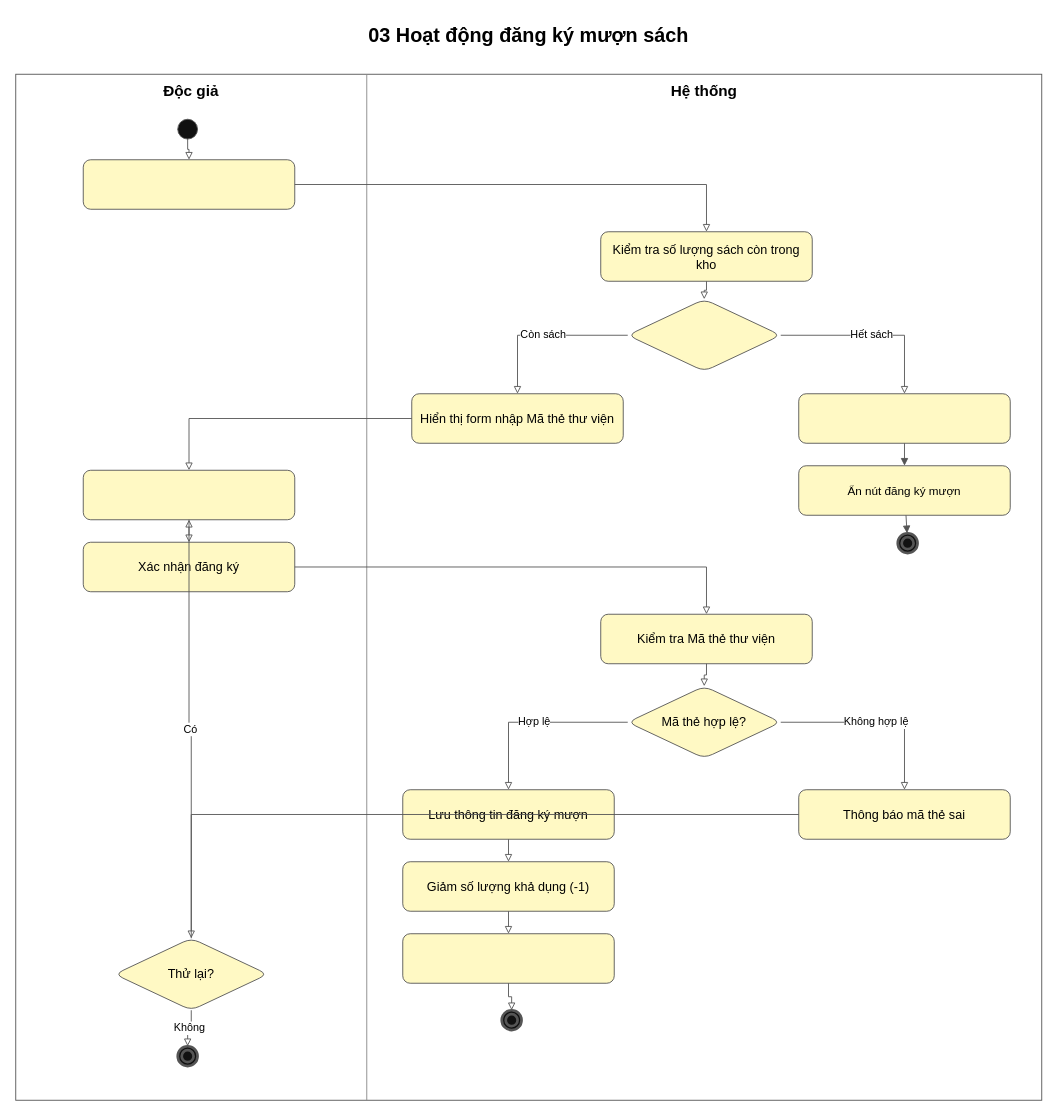
This 1058x1117 diagram has some shape labels left out. The centre of each missing label's shape, as x and y in pixels:
Chọn Đăng ký mượn tại trang sách vật lý: (188,184)
Hiển thị thông báo "Sách đã được mượn hết": (904,418)
Nhập Mã thẻ thư viện: (188,494)
Số lượng > 0?: (704,334)
Thông báo đăng ký thành công: (508,958)
